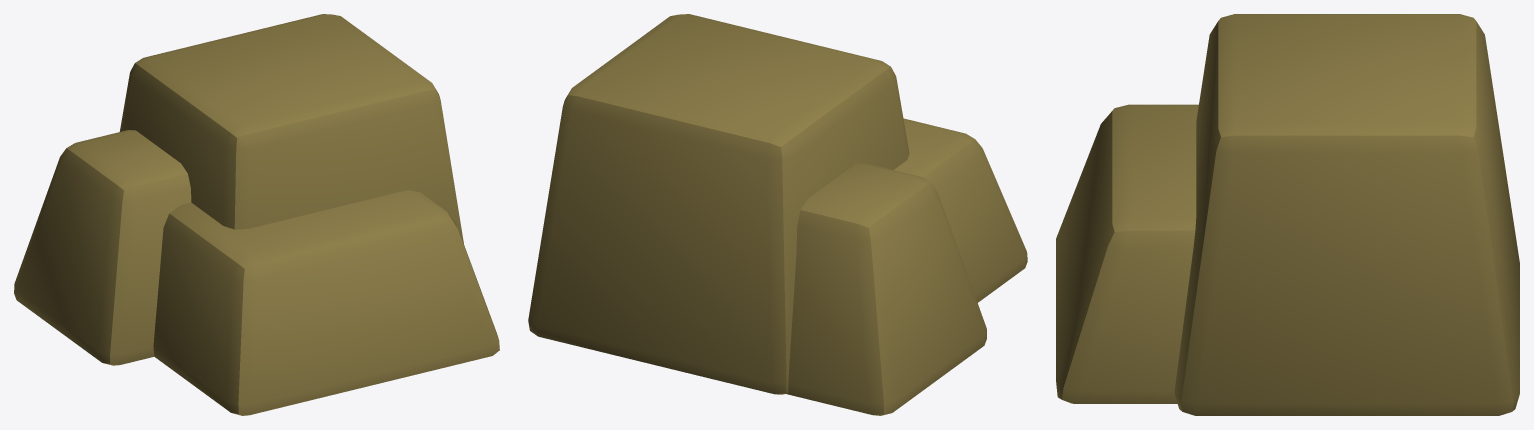
The model's file is Rock2.glb.
The picture shows the model from 3 angles, left to right: view 1: azimuth 30°, elevation 25°; view 2: azimuth 150°, elevation 25°; view 3: azimuth 270°, elevation 25°; orthographic projection. The views are drawn at different scales.
Parts seen in each view (by area): view 1: Rock2; view 2: Rock2; view 3: Rock2.
Part boxes in pixels (x1,y1,x2,y2): Rock2: (14, 14, 499, 415); Rock2: (528, 14, 1027, 415); Rock2: (1056, 14, 1519, 415).
Bounding box in the file's own units: 1.27 × 0.8163 × 1.23.
1 material, 1 textured.
